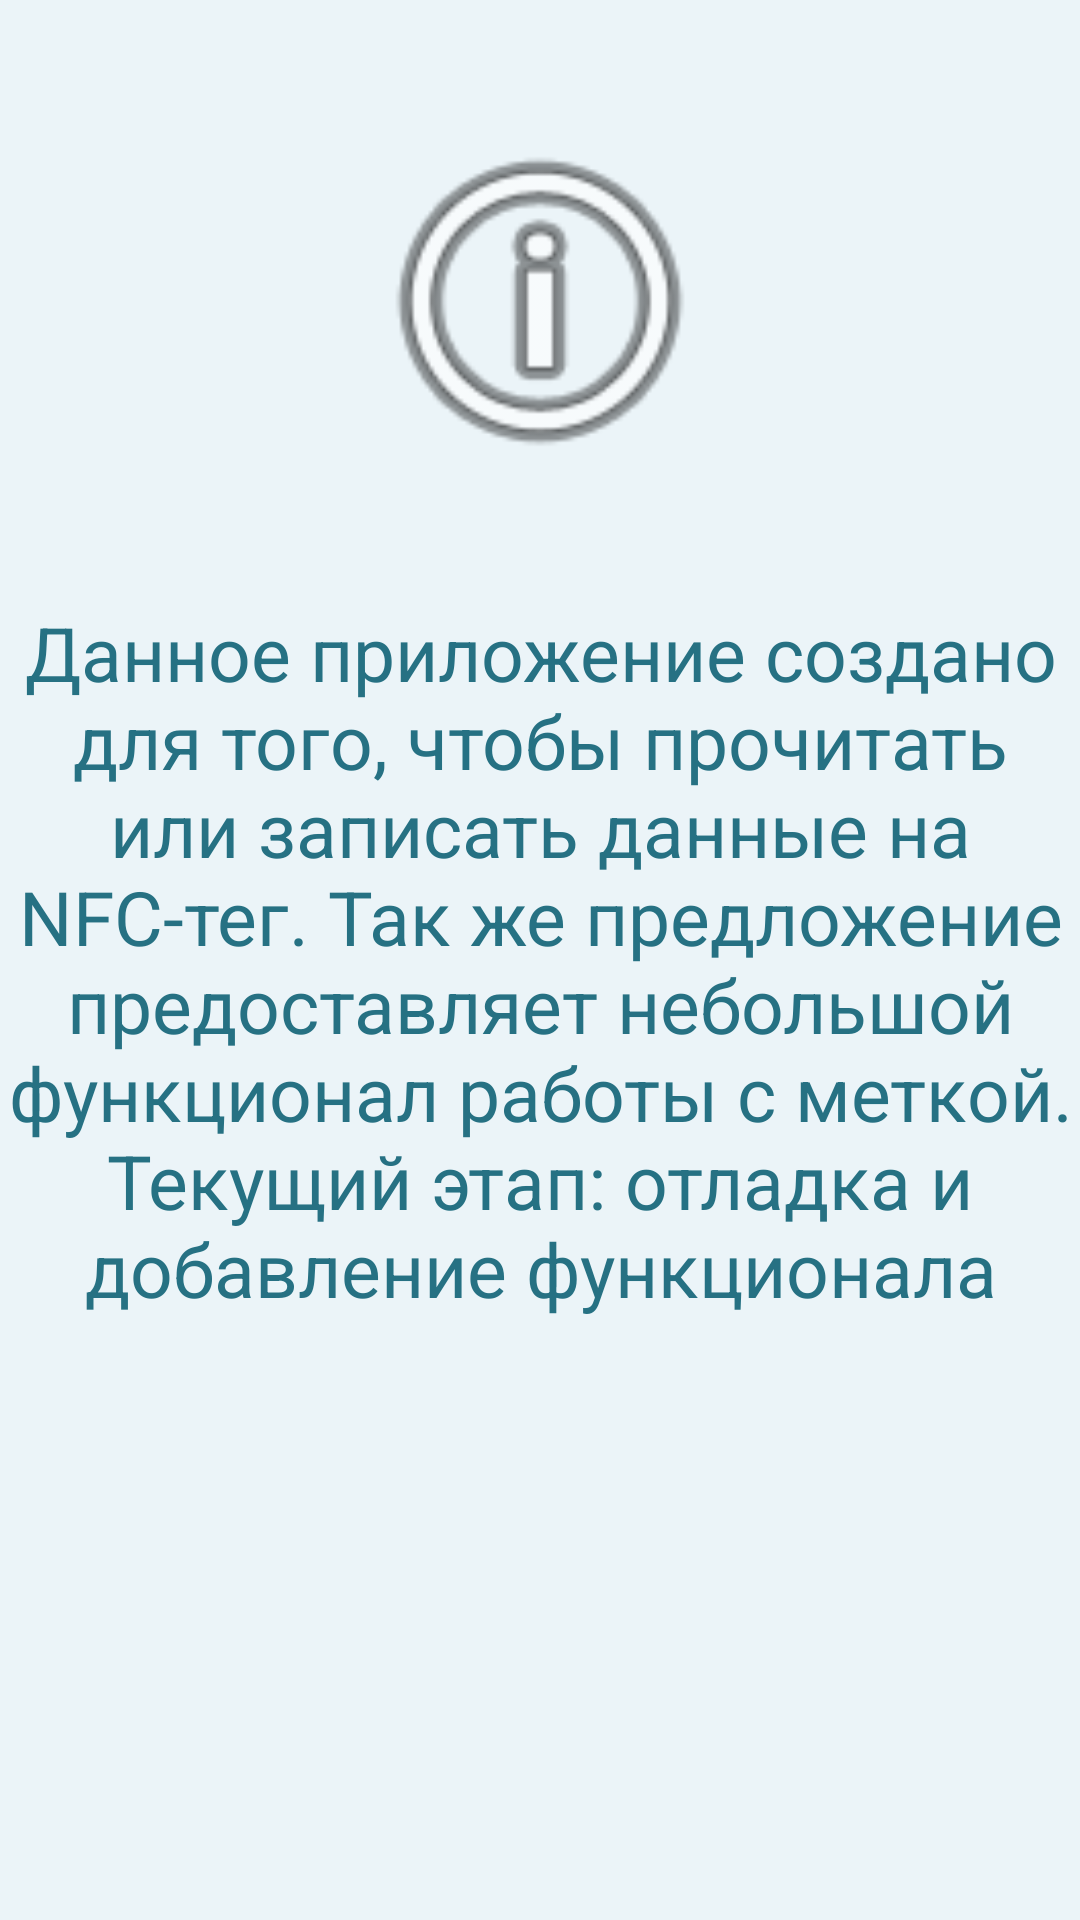

Where icons sit on this 1080px×1920px app screen, as (left=x1, top=y1, right=x2, bottom=y2):
info details: (left=398, top=160, right=682, bottom=444)
